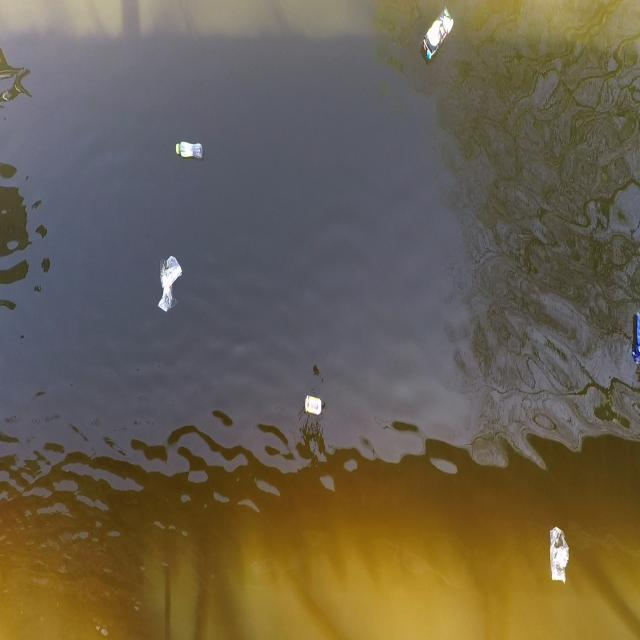Autre plastique: (421, 6, 453, 62)
Bouteille plastique: (172, 140, 205, 162)
Non plastique: (300, 396, 323, 418)
Sac plastique: (156, 258, 182, 318)
